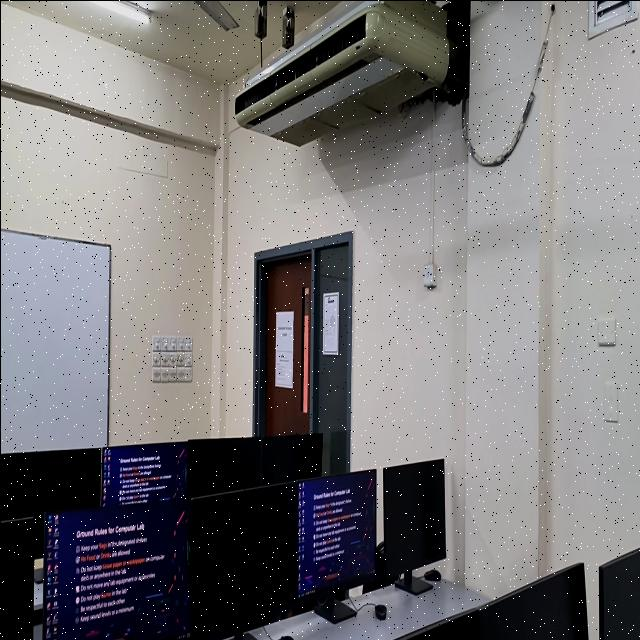Ac: (233, 0, 469, 145)
Light: (89, 0, 150, 23)
Monitor: (42, 500, 191, 640), (190, 482, 298, 640), (362, 458, 445, 594), (0, 447, 101, 551), (0, 448, 101, 551), (297, 469, 375, 597), (478, 563, 587, 640), (101, 442, 186, 505), (186, 437, 261, 496), (0, 519, 33, 640), (598, 547, 640, 640), (260, 433, 322, 484), (394, 610, 479, 640), (183, 460, 186, 482), (566, 637, 574, 640), (111, 610, 115, 615)
Mouse: (0, 518, 33, 640), (365, 603, 385, 618), (422, 569, 440, 582), (276, 635, 293, 640)
